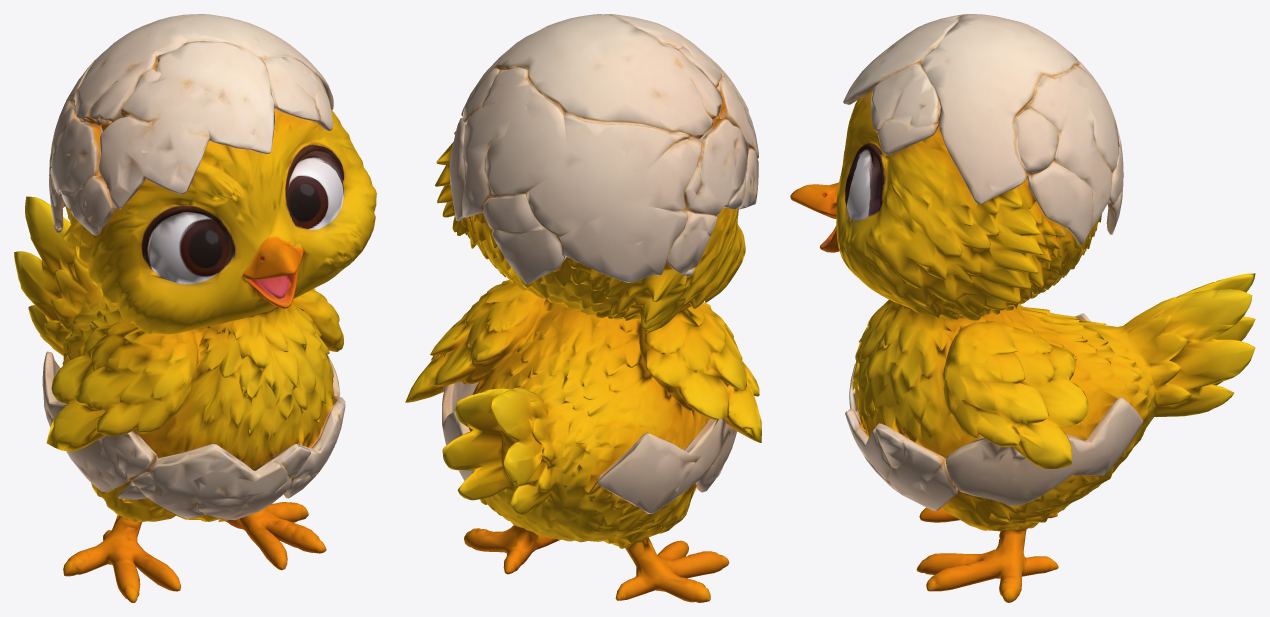
Rendered from pintinho_40k.glb.
3 views of the same model, side by side, from view 1: azimuth 30°, elevation 25°; view 2: azimuth 150°, elevation 25°; view 3: azimuth 270°, elevation 25° (orthographic). The views are drawn at different scales.
Parts seen in each view (by area): view 1: tripo_node_0a89dce4-0242-4f5f-b5d5-a95ec7feaca0; view 2: tripo_node_0a89dce4-0242-4f5f-b5d5-a95ec7feaca0; view 3: tripo_node_0a89dce4-0242-4f5f-b5d5-a95ec7feaca0.
Boxes of the visible parts, box(x1,y1,x2,y2) form: tripo_node_0a89dce4-0242-4f5f-b5d5-a95ec7feaca0: box(14, 14, 376, 602); tripo_node_0a89dce4-0242-4f5f-b5d5-a95ec7feaca0: box(405, 14, 761, 602); tripo_node_0a89dce4-0242-4f5f-b5d5-a95ec7feaca0: box(790, 14, 1255, 602).
Size of the model in its own units: 0.588 by 0.9793 by 0.7948.
1 material, 1 textured.
